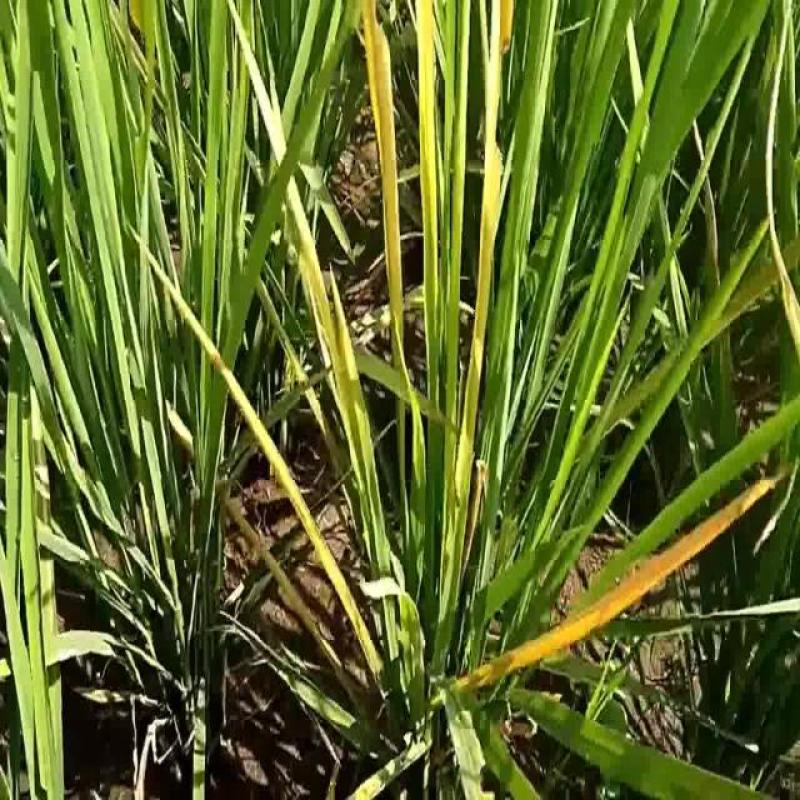Rice Tungro: (122, 211, 382, 689), (445, 475, 786, 706), (226, 1, 354, 429), (452, 2, 518, 464), (412, 1, 447, 380), (360, 1, 401, 319)
